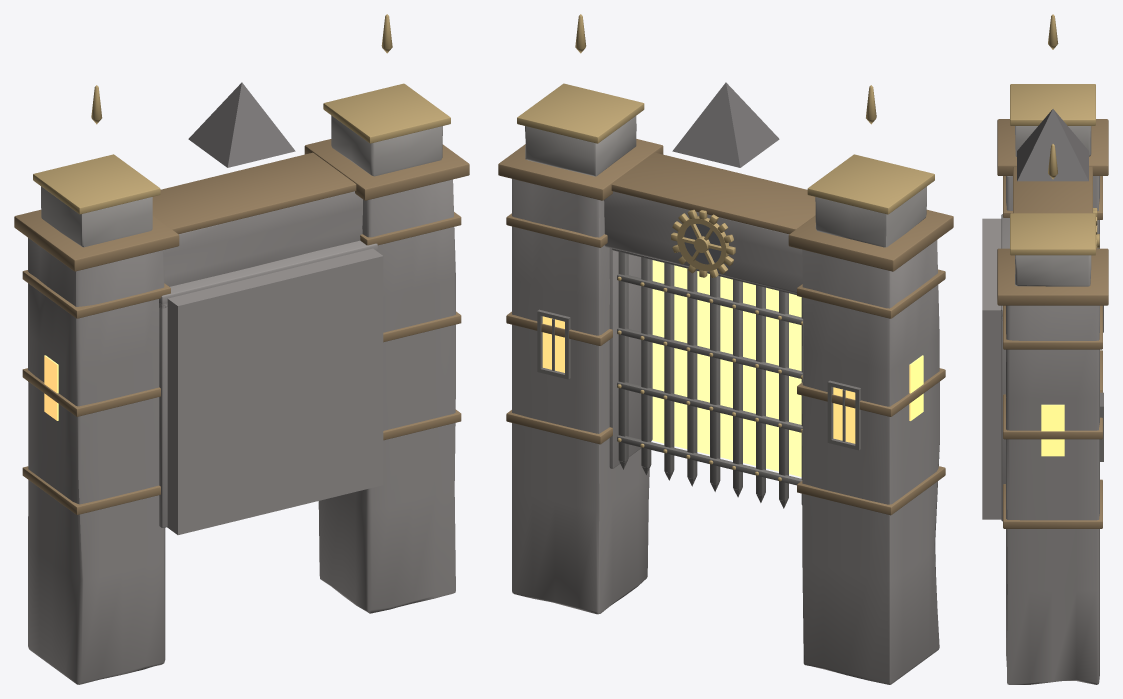
File: SM_Area2_FurnaceGate.glb
The picture shows the model from 3 angles, left to right: view 1: azimuth 30°, elevation 25°; view 2: azimuth 150°, elevation 25°; view 3: azimuth 270°, elevation 25°; orthographic projection. The views are drawn at different scales.
Visible parts, largest first — view 1: SM_Area2_FurnaceGate; view 2: SM_Area2_FurnaceGate; view 3: SM_Area2_FurnaceGate.
Boxes of the visible parts, x1,y1,x2,y2 form: SM_Area2_FurnaceGate: (14,14,469,684); SM_Area2_FurnaceGate: (498,14,953,684); SM_Area2_FurnaceGate: (982,14,1108,684).
Bounding box in the file's own units: 8.86 × 12.25 × 2.68.
